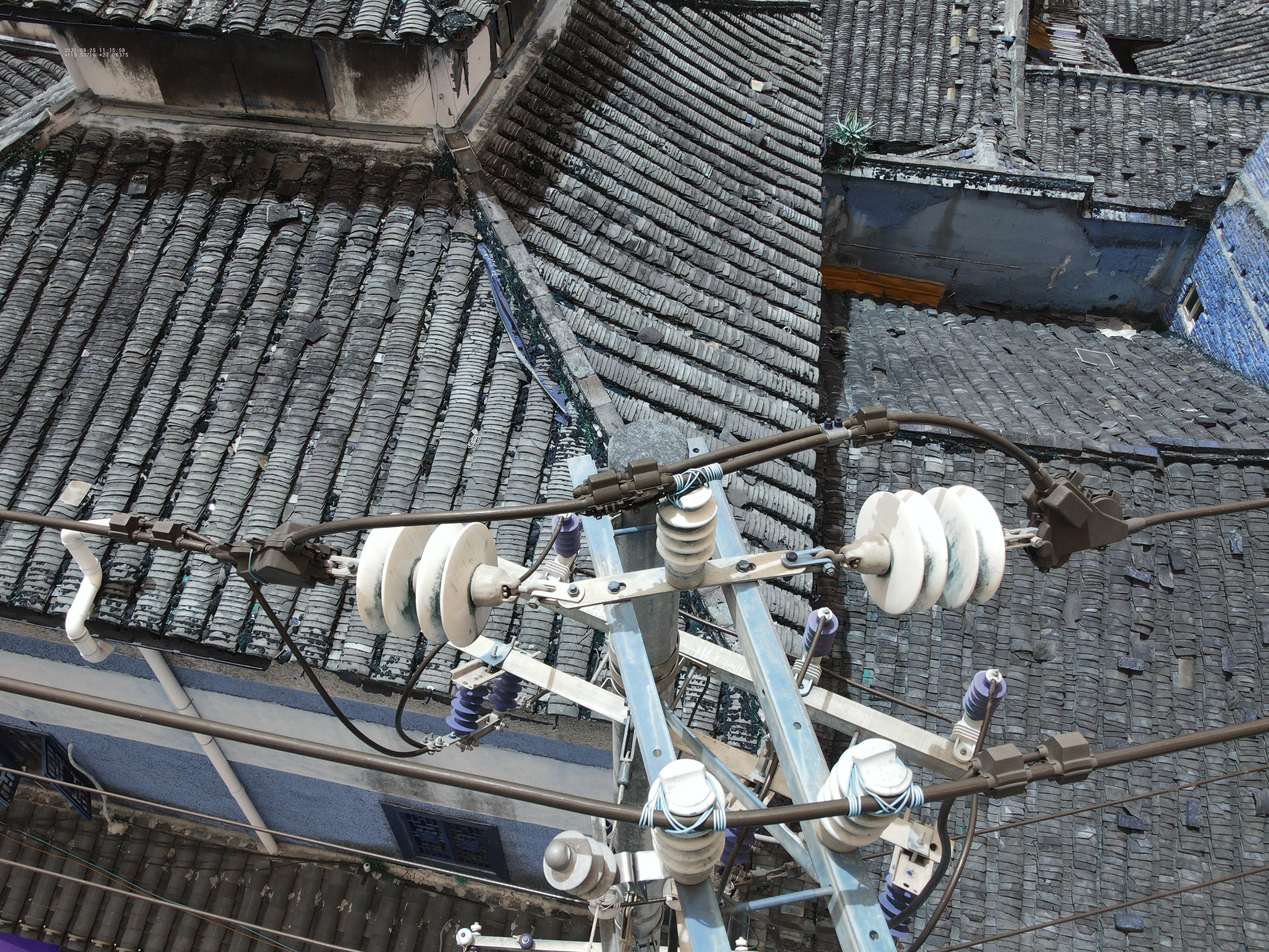severe_soiling_no_discharge_whole: (348, 509, 521, 654), (841, 483, 1008, 619), (815, 737, 914, 857), (640, 757, 729, 887), (652, 479, 720, 594)
